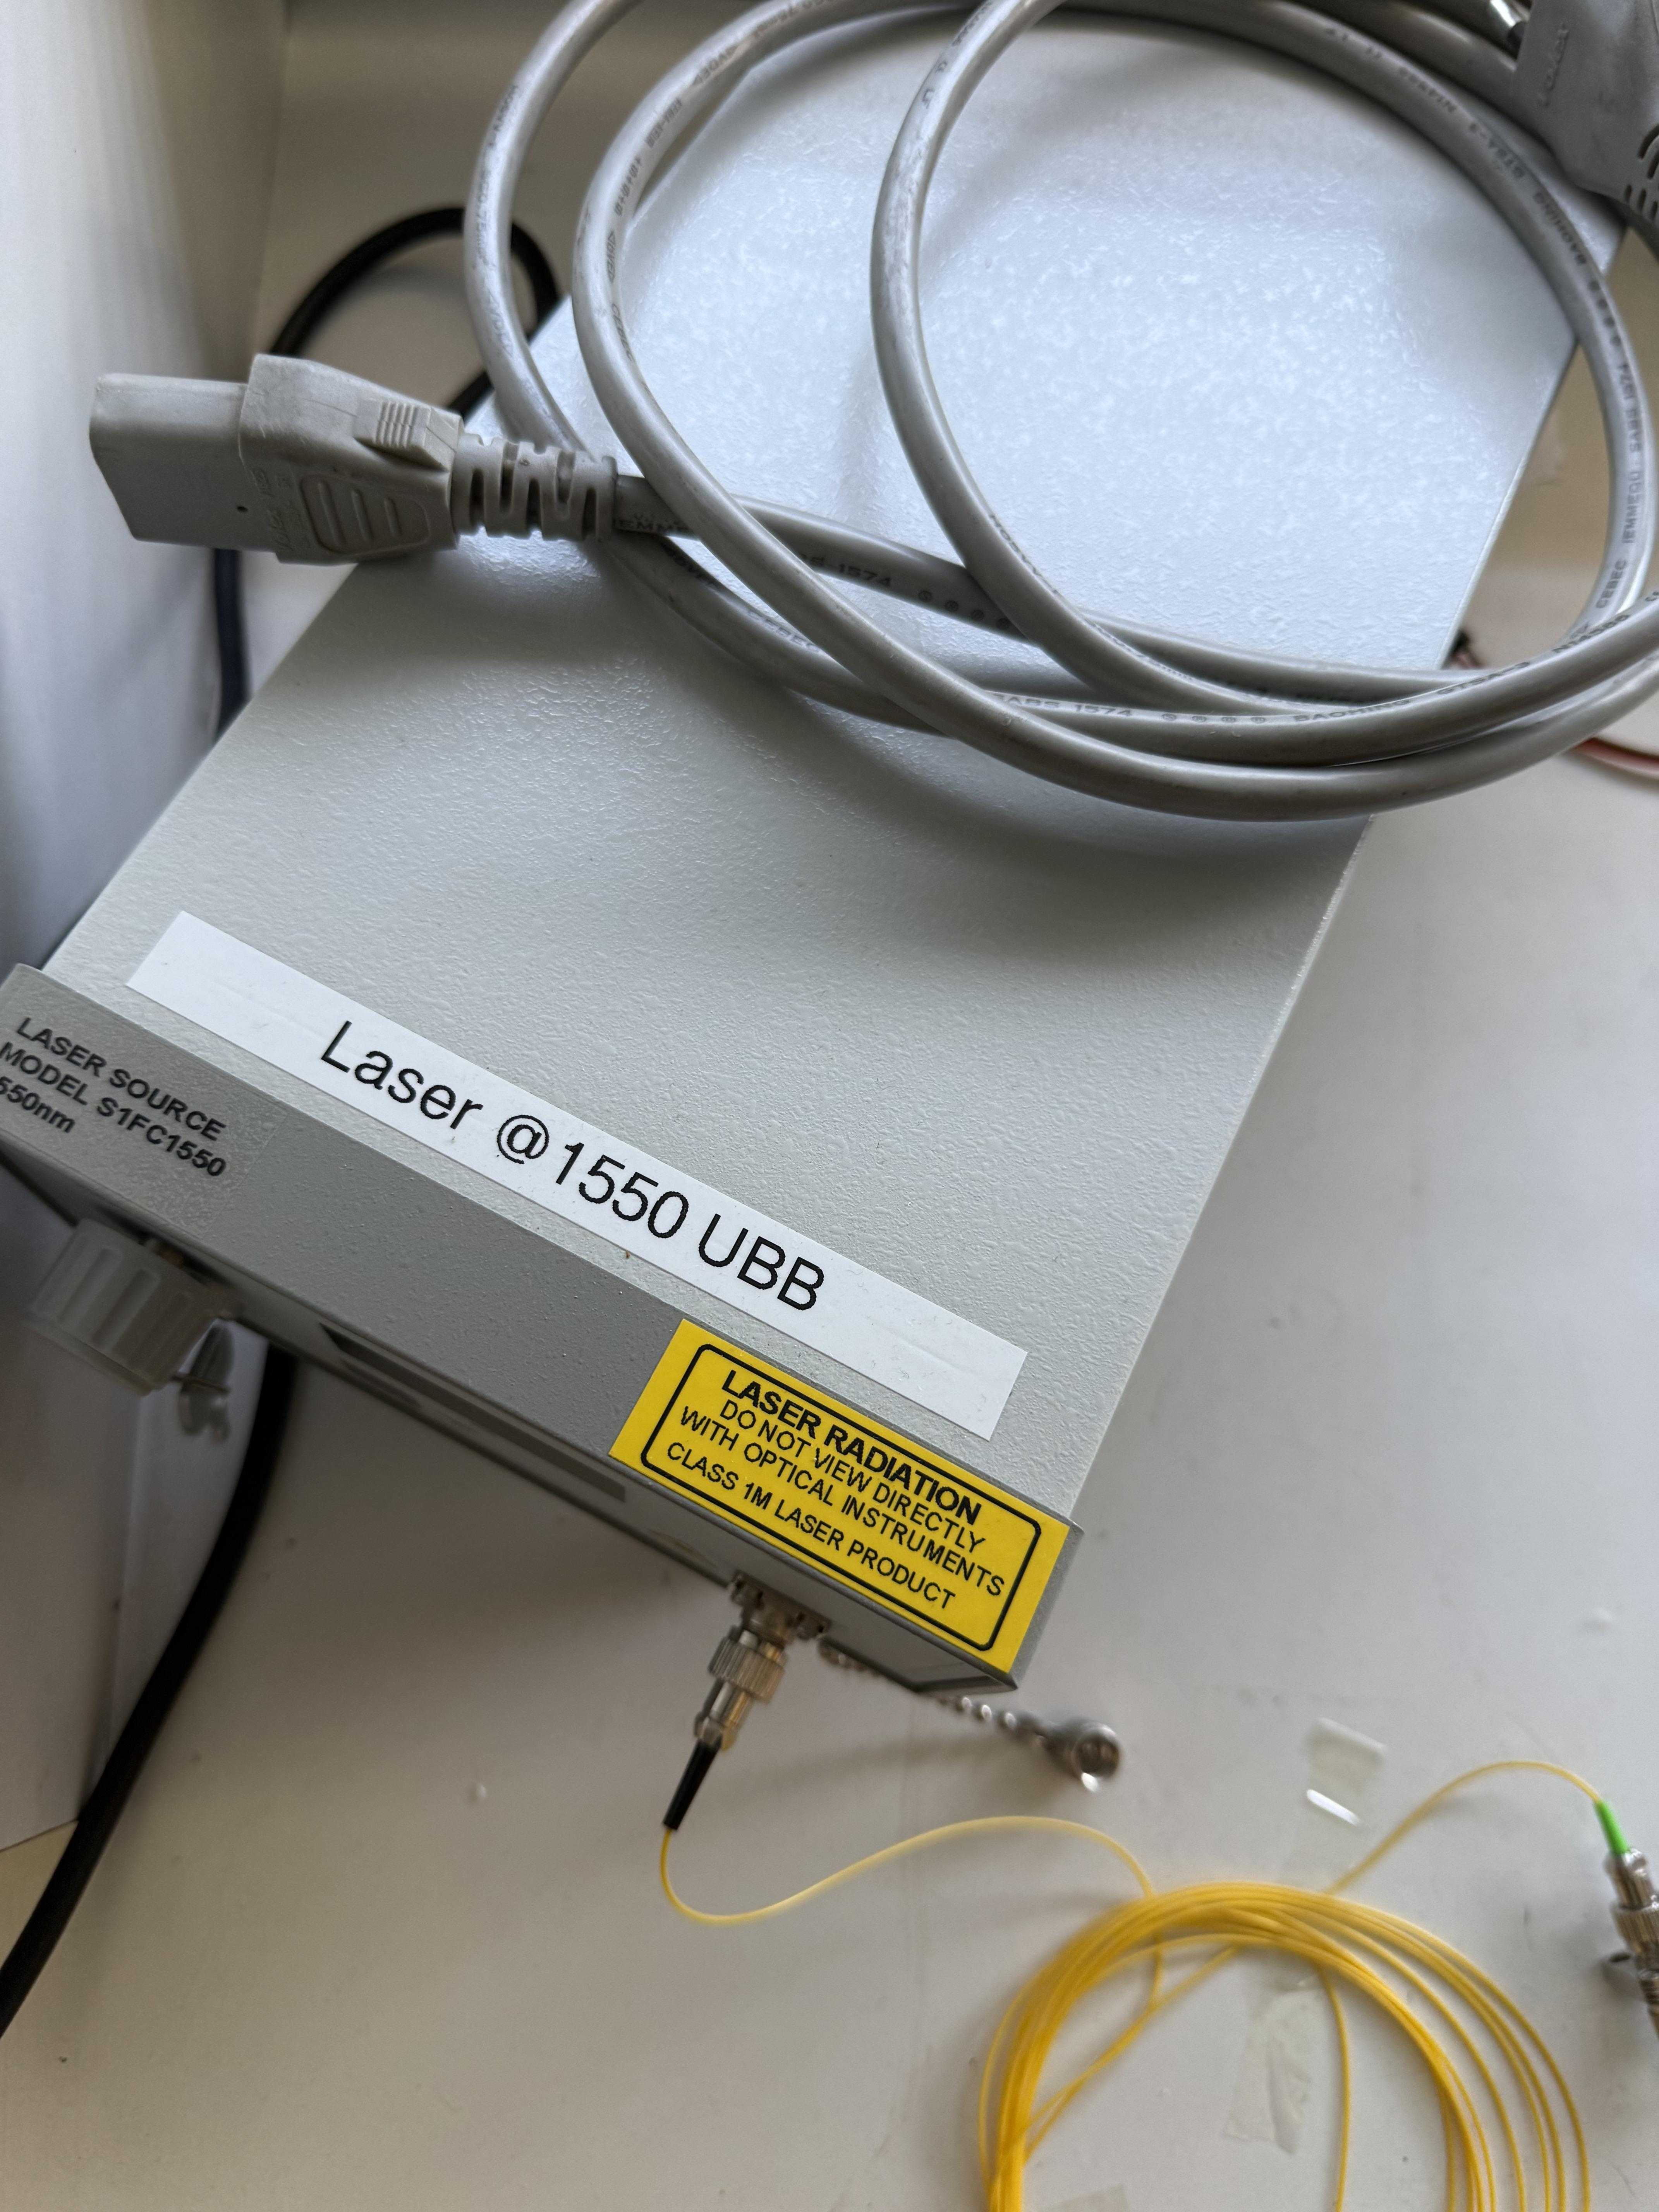laser: (0, 23, 1642, 1863)
